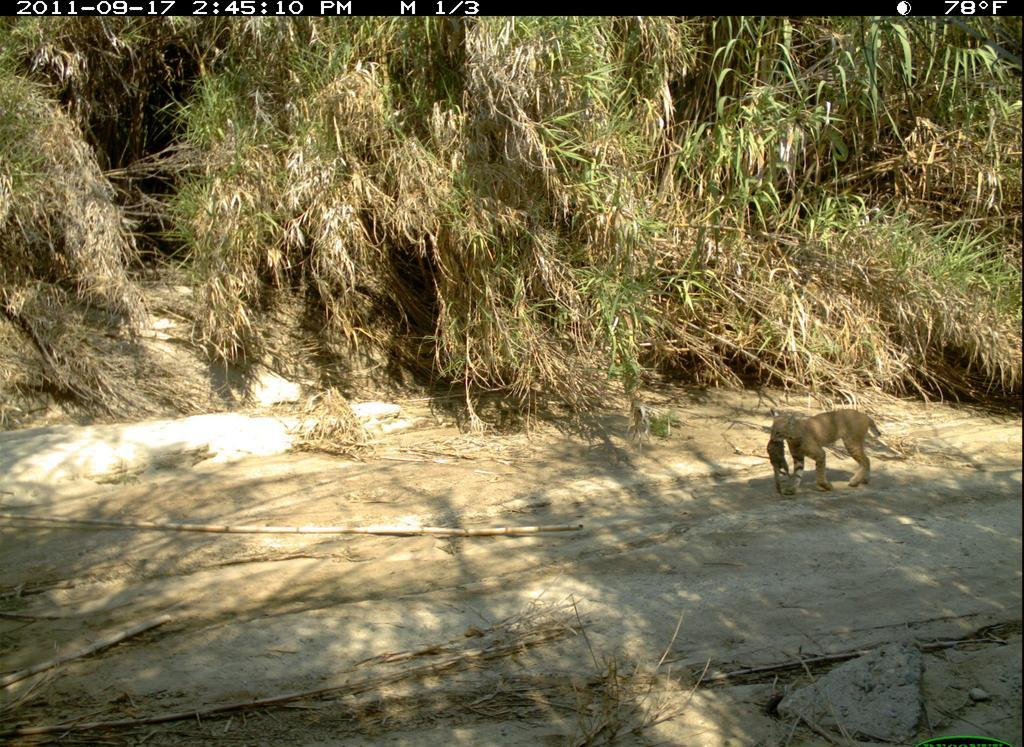squirrel: (768, 436, 797, 504)
